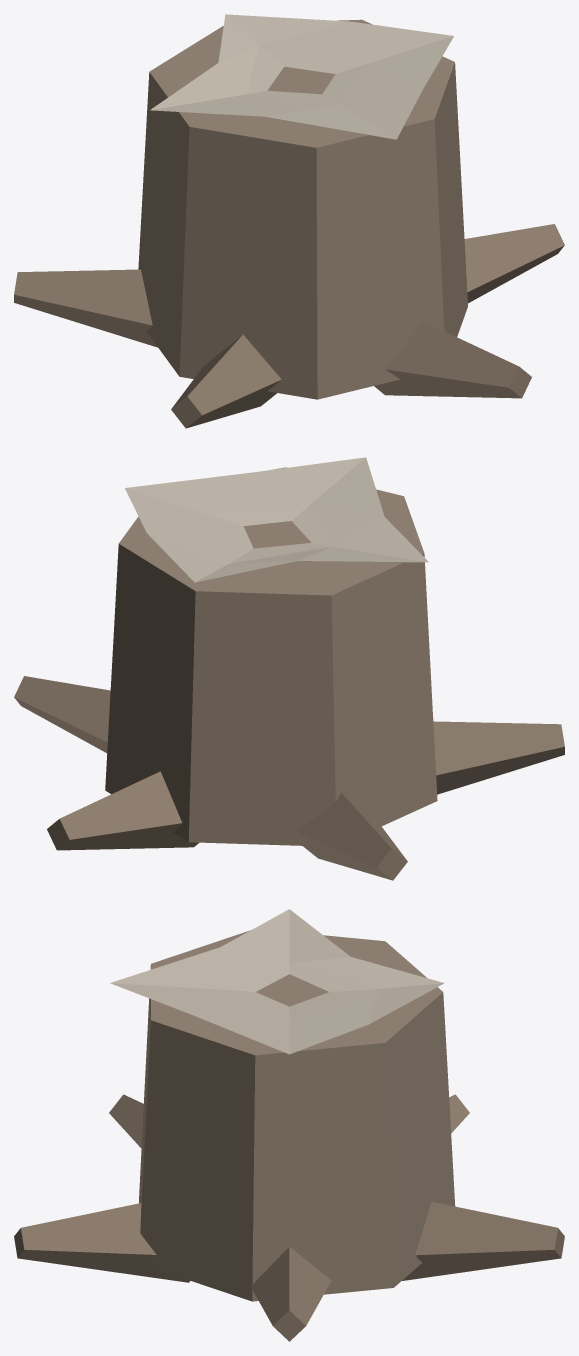
The model's file is stump_v38.glb.
3 views of the same model, one above another, from view 1: azimuth 30°, elevation 25°; view 2: azimuth 150°, elevation 25°; view 3: azimuth 270°, elevation 25° (orthographic). The views are drawn at different scales.
Parts seen in each view (by area): view 1: lod0; view 2: lod0; view 3: lod0.
Boxes of the visible parts, x1=… form: lod0: x1=14, y1=14, x2=564, y2=428; lod0: x1=14, y1=457, x2=564, y2=880; lod0: x1=14, y1=909, x2=564, y2=1341.
Size of what is drawn, in the model's own units: 1.07 by 0.6713 by 1.12.
